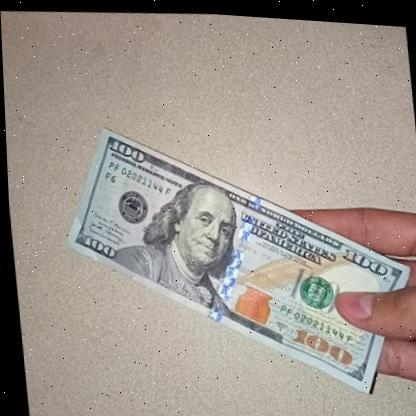dollar_front: (49, 107, 416, 410)
